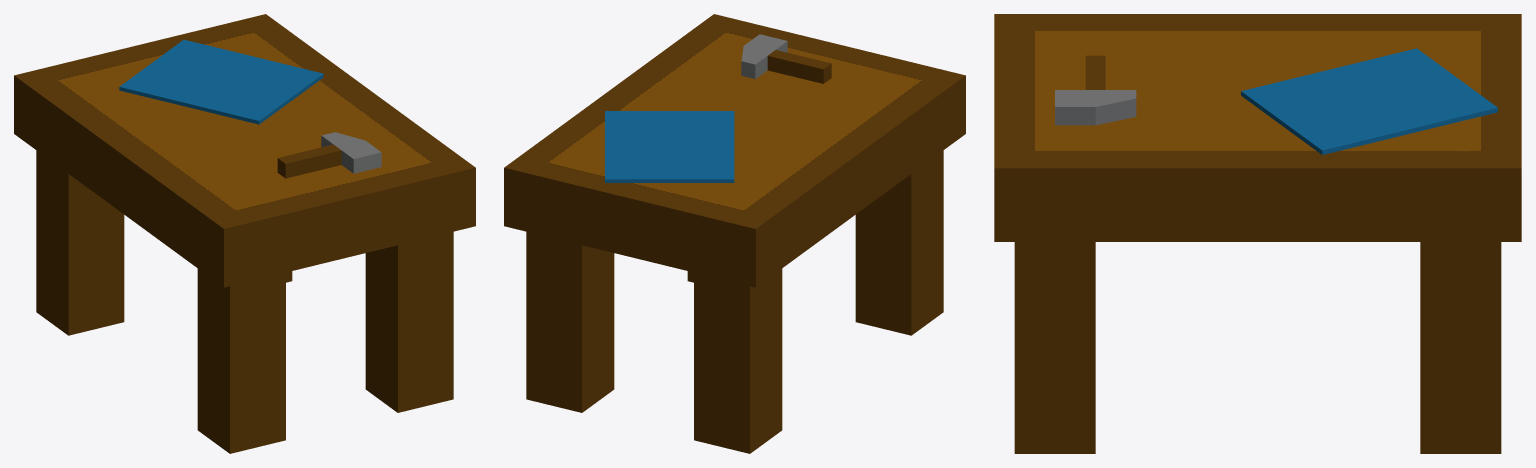
Rendered from Crafting Table.obj.
The picture shows the model from 3 angles, left to right: view 1: azimuth 30°, elevation 25°; view 2: azimuth 150°, elevation 25°; view 3: azimuth 270°, elevation 25°; orthographic projection. The views are drawn at different scales.
Visible parts, largest first — view 1: cuboid; view 2: cuboid; view 3: cuboid.
Boxes of the visible parts, x1,y1,x2,y2 form: cuboid: (14, 14, 475, 453); cuboid: (504, 14, 965, 453); cuboid: (994, 14, 1521, 453).
Bounding box in the file's own units: 0.5625 × 0.5312 × 0.8125.
Materials: 1 (1 with a texture image).
